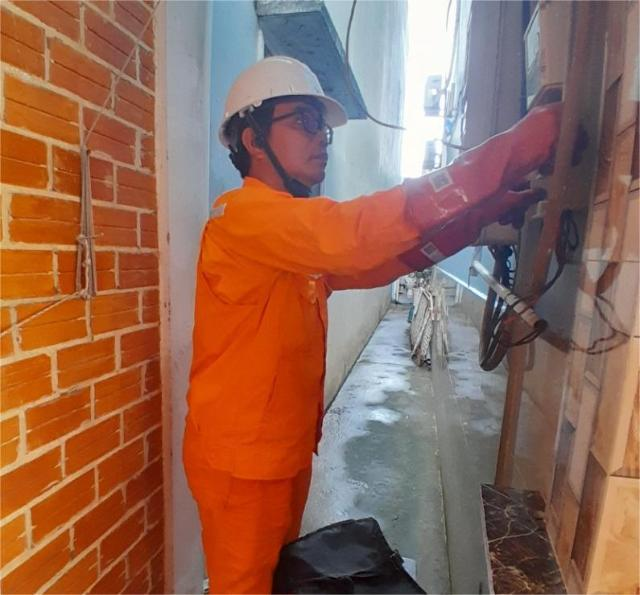gloves: (394, 99, 596, 225), (398, 176, 551, 285)
helmet: (199, 50, 364, 143)
